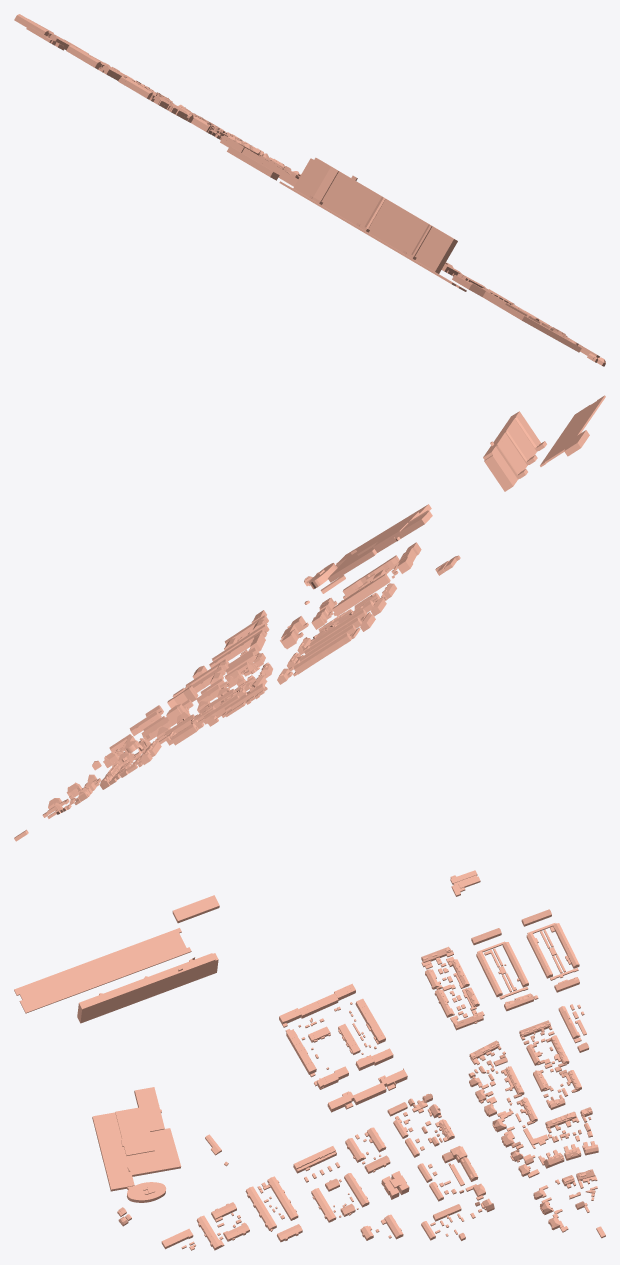
The picture shows the model from 3 angles, top to bottom: view 1: azimuth 30°, elevation 25°; view 2: azimuth 150°, elevation 25°; view 3: azimuth 270°, elevation 25°; orthographic projection. The views are drawn at different scales.
Bounding box in the file's own units: 430 × 314 × 717.
